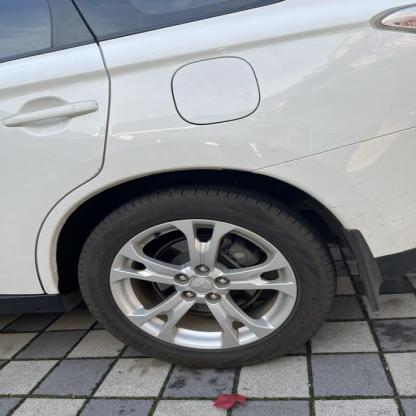Tire: (76, 190, 338, 370)
